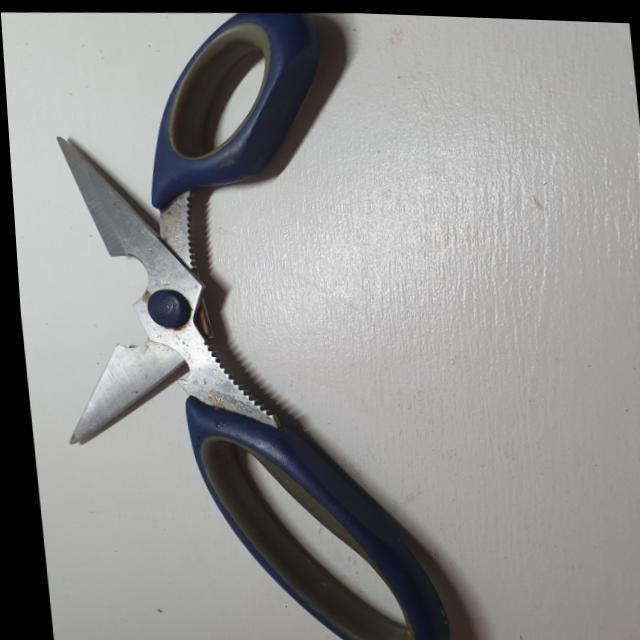scissor: (24, 1, 447, 640)
